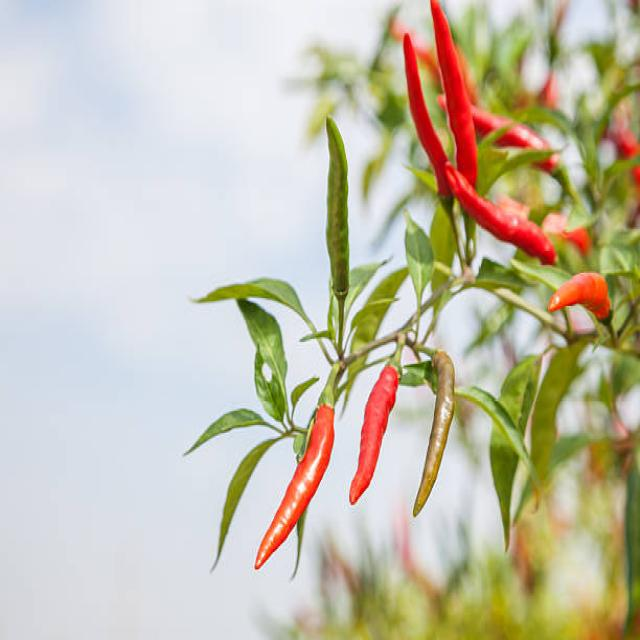Ripe: (254, 362, 340, 571), (447, 165, 562, 265), (431, 0, 477, 185), (403, 35, 450, 196), (347, 369, 399, 505), (548, 273, 611, 325)
Unripe: (411, 353, 453, 521), (326, 116, 348, 339)
